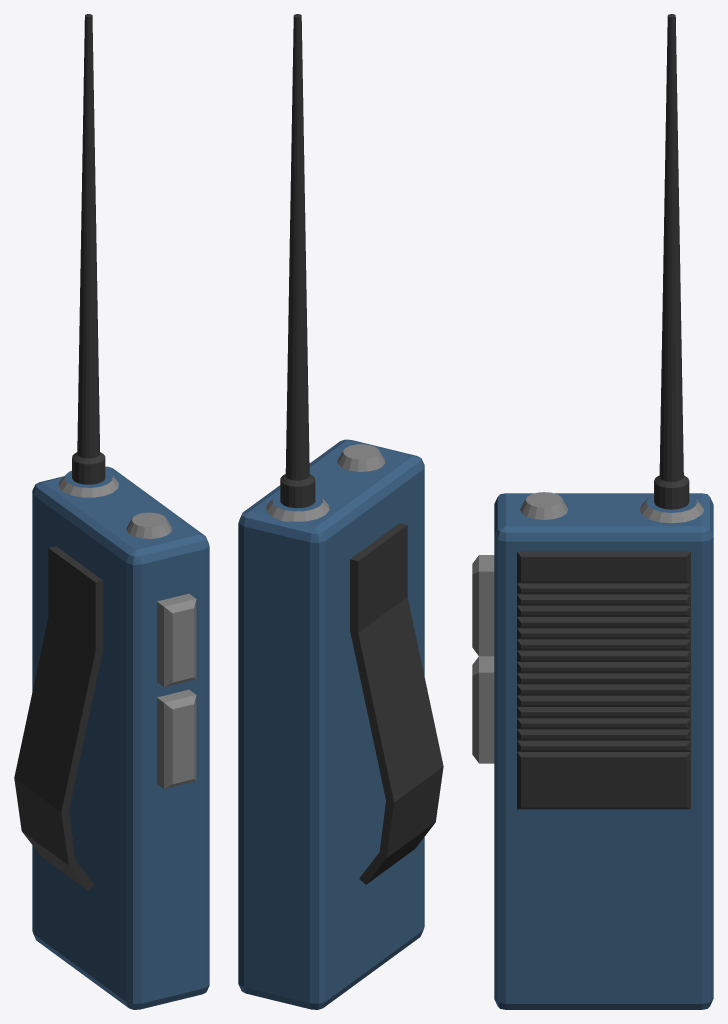
The model's file is communicator.glb.
3 views of the same model, side by side, from view 1: azimuth 30°, elevation 25°; view 2: azimuth 150°, elevation 25°; view 3: azimuth 270°, elevation 25° (orthographic). The views are drawn at different scales.
Visible parts, largest first — view 1: Walkie_Talkie; view 2: Walkie_Talkie; view 3: Walkie_Talkie.
Boxes of the visible parts, x1,y1,x2,y2 form: Walkie_Talkie: (14, 14, 209, 1009); Walkie_Talkie: (238, 14, 443, 1009); Walkie_Talkie: (472, 14, 713, 1009).
Bounding box in the file's own units: 9.8 × 68.08 × 15.22.
1 material, 1 textured.
